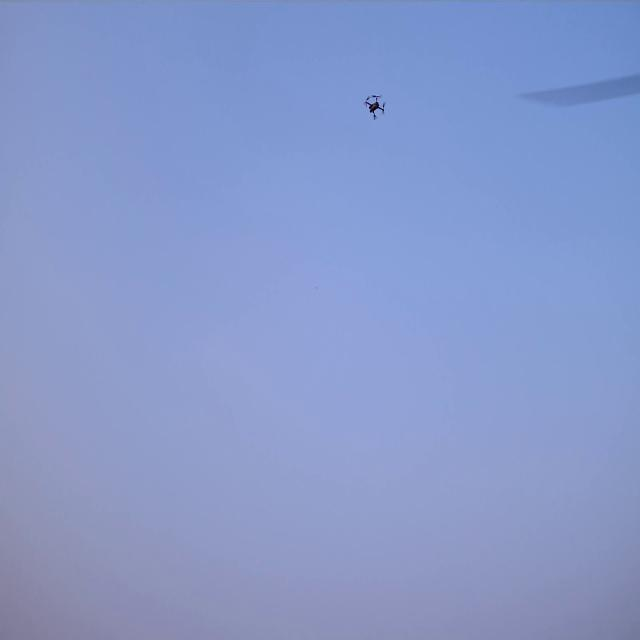UAV: (366, 96, 384, 119)
